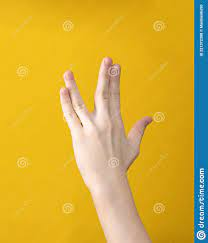LiveLong: (59, 56, 153, 186)
